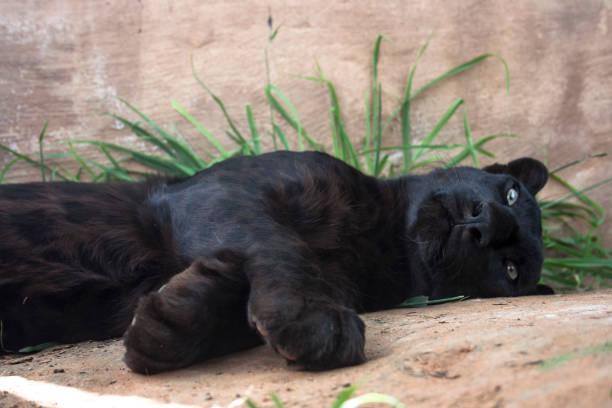panther: (389, 145, 572, 307)
